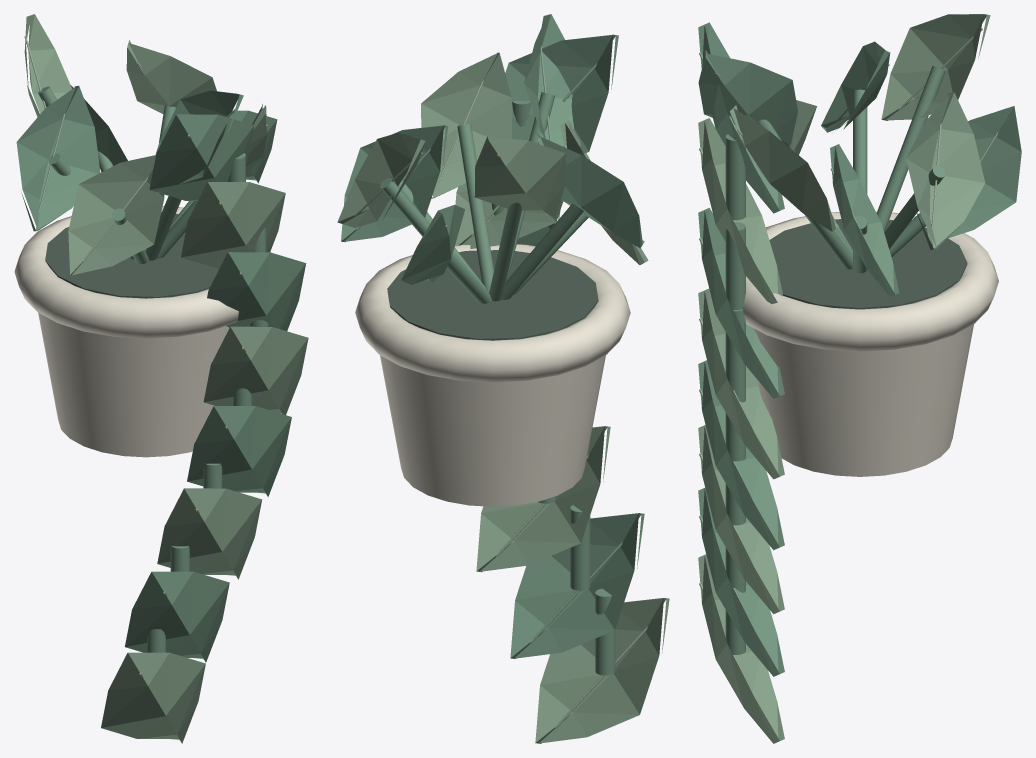
File: plant_hanging.glb
The picture shows the model from 3 angles, left to right: view 1: azimuth 30°, elevation 25°; view 2: azimuth 150°, elevation 25°; view 3: azimuth 270°, elevation 25°; orthographic projection. The views are drawn at different scales.
Visible parts, largest first — view 1: _MeshInstance3D_840, _MeshInstance3D_841, _MeshInstance3D_853, _MeshInstance3D_856, _MeshInstance3D_888, _MeshInstance3D_882, _MeshInstance3D_879, _MeshInstance3D_885, _MeshInstance3D_876, _MeshInstance3D_870, _MeshInstance3D_867, _MeshInstance3D_842 (+11 smaller); view 2: _MeshInstance3D_840, _MeshInstance3D_841, _MeshInstance3D_842, _MeshInstance3D_885, _MeshInstance3D_888, _MeshInstance3D_882, _MeshInstance3D_847, _MeshInstance3D_867, _MeshInstance3D_859, _MeshInstance3D_856, _MeshInstance3D_865, _MeshInstance3D_844 (+12 smaller); view 3: _MeshInstance3D_840, _MeshInstance3D_841, _MeshInstance3D_842, _MeshInstance3D_865, _MeshInstance3D_859, _MeshInstance3D_850, _MeshInstance3D_870, _MeshInstance3D_876, _MeshInstance3D_879, _MeshInstance3D_888, _MeshInstance3D_862, _MeshInstance3D_882 (+17 smaller).
Boxes of the visible parts, bbox=[...] form: _MeshInstance3D_840: bbox=[38, 312, 229, 457]; _MeshInstance3D_841: bbox=[14, 206, 238, 338]; _MeshInstance3D_853: bbox=[68, 155, 165, 275]; _MeshInstance3D_856: bbox=[16, 85, 100, 231]; _MeshInstance3D_888: bbox=[101, 652, 205, 743]; _MeshInstance3D_882: bbox=[157, 488, 262, 579]; _MeshInstance3D_879: bbox=[187, 406, 291, 496]; _MeshInstance3D_885: bbox=[125, 571, 229, 662]; _MeshInstance3D_876: bbox=[203, 326, 308, 414]; _MeshInstance3D_870: bbox=[181, 182, 285, 268]; _MeshInstance3D_867: bbox=[149, 114, 254, 200]; _MeshInstance3D_842: bbox=[45, 213, 219, 298]; _MeshInstance3D_840: bbox=[380, 355, 605, 506]; _MeshInstance3D_841: bbox=[355, 244, 630, 382]; _MeshInstance3D_842: bbox=[387, 250, 598, 340]; _MeshInstance3D_885: bbox=[510, 513, 644, 658]; _MeshInstance3D_888: bbox=[535, 598, 669, 743]; _MeshInstance3D_882: bbox=[476, 426, 610, 572]; _MeshInstance3D_847: bbox=[421, 52, 511, 198]; _MeshInstance3D_867: bbox=[505, 34, 618, 153]; _MeshInstance3D_859: bbox=[474, 133, 565, 218]; _MeshInstance3D_856: bbox=[537, 133, 644, 248]; _MeshInstance3D_865: bbox=[337, 132, 425, 227]; _MeshInstance3D_844: bbox=[341, 125, 448, 242]; _MeshInstance3D_840: bbox=[754, 324, 973, 476]; _MeshInstance3D_841: bbox=[742, 211, 998, 351]; _MeshInstance3D_842: bbox=[769, 219, 967, 309]; _MeshInstance3D_865: bbox=[906, 92, 985, 249]; _MeshInstance3D_859: bbox=[881, 14, 990, 120]; _MeshInstance3D_850: bbox=[698, 50, 797, 145]; _MeshInstance3D_870: bbox=[698, 118, 782, 304]; _MeshInstance3D_876: bbox=[698, 288, 784, 479]; _MeshInstance3D_879: bbox=[698, 360, 784, 550]; _MeshInstance3D_888: bbox=[698, 554, 784, 743]; _MeshInstance3D_862: bbox=[927, 106, 1021, 243]; _MeshInstance3D_882: bbox=[698, 425, 784, 614].
Size of the model in its own units: 0.2862 by 0.6892 by 0.2865.
